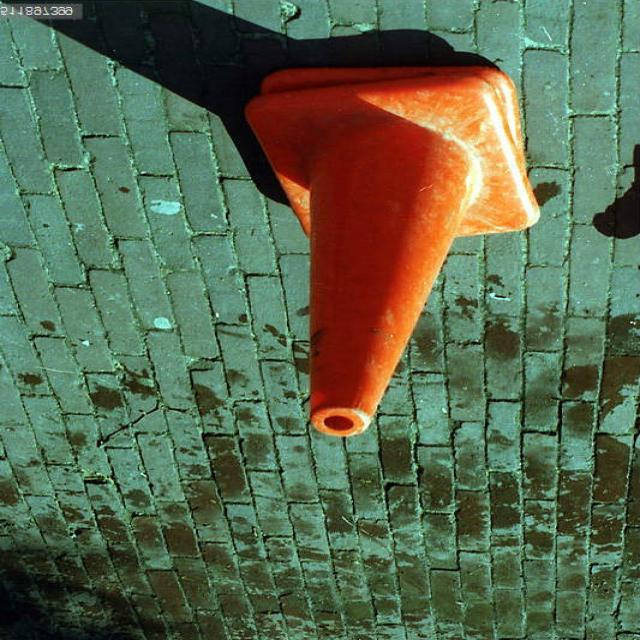cone: (246, 77, 539, 437)
